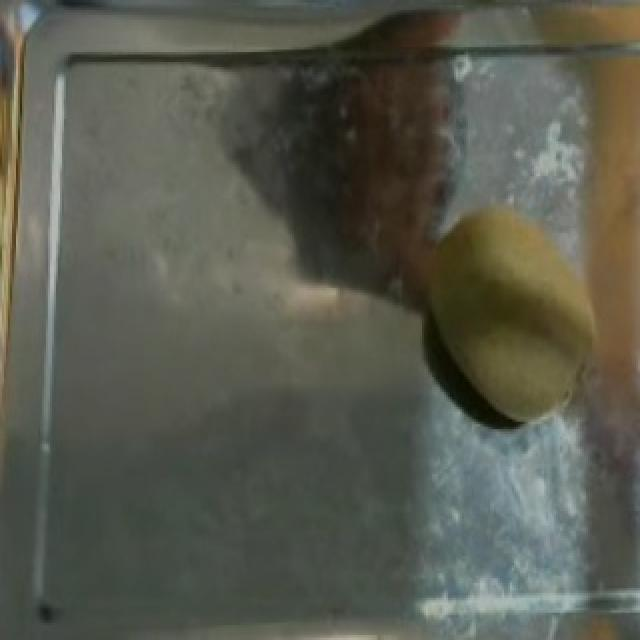Fruit: (394, 186, 636, 442), (560, 35, 640, 300)
